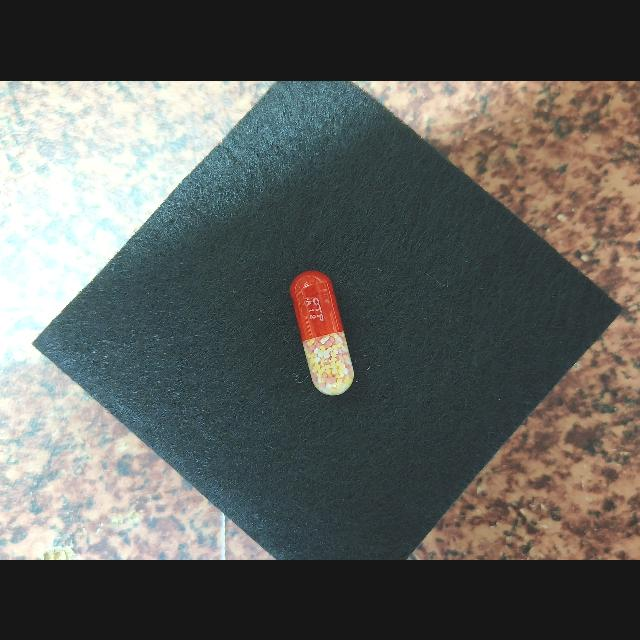Intact Capsule: (290, 270, 354, 395)
